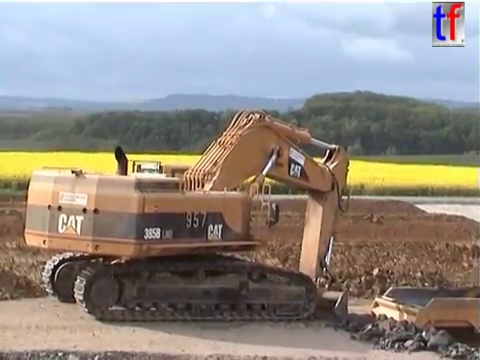excavator: (20, 105, 353, 342)
truck: (367, 284, 480, 360)
